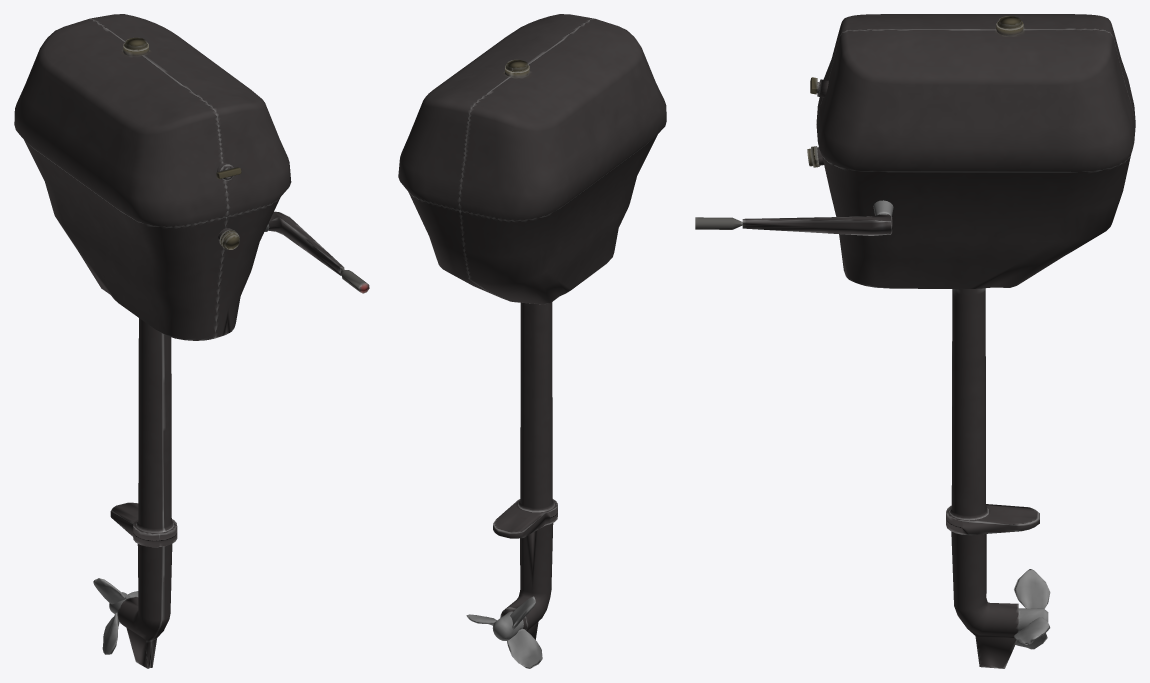
The model's file is engine.obj.
3 renders of one model, left to right at view 1: azimuth 30°, elevation 25°; view 2: azimuth 150°, elevation 25°; view 3: azimuth 270°, elevation 25°, orthographic. The views are drawn at different scales.
Parts seen in each view (by area): view 1: Engine; view 2: Engine; view 3: Engine.
Part boxes in pixels (<box>): Engine: <box>14,14,369,668</box>; Engine: <box>398,14,666,668</box>; Engine: <box>695,14,1135,668</box>.
Size of the model in its own units: 0.3516 by 1.22 by 0.7515.
Materials: 1 (1 with a texture image).
